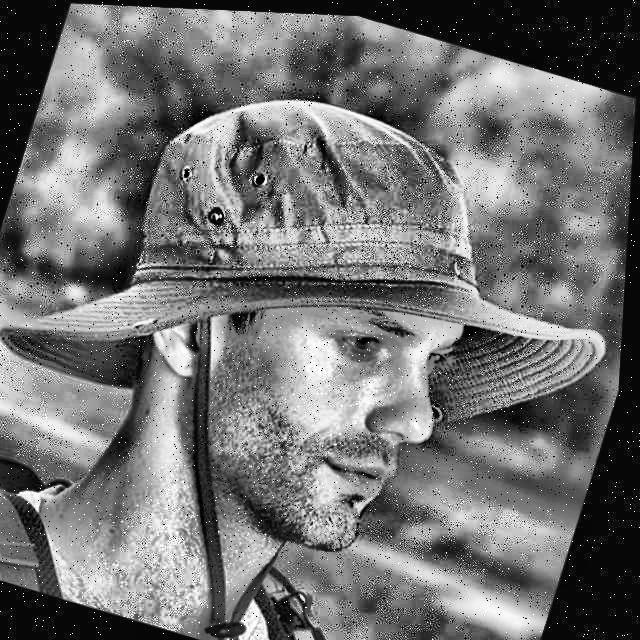Helmet: (0, 15, 639, 617)
